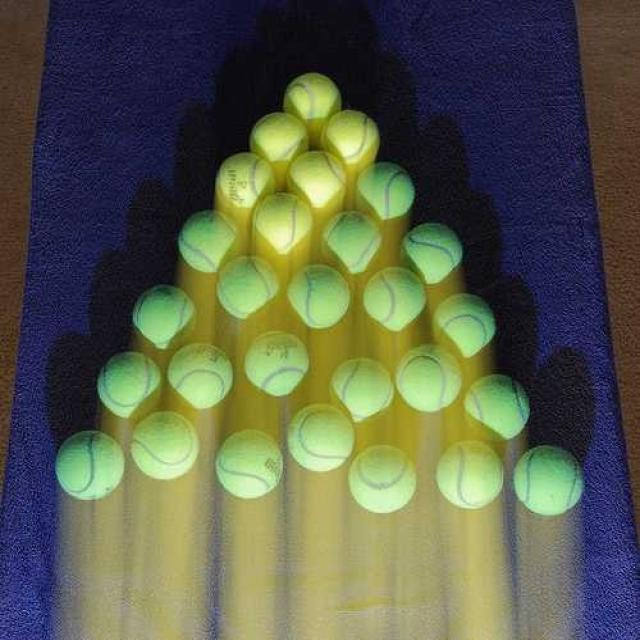Tennis_Ball: (53, 424, 125, 506), (130, 407, 200, 483), (285, 260, 355, 332), (134, 278, 205, 347), (515, 448, 586, 517), (435, 438, 499, 511), (363, 262, 424, 334), (352, 446, 419, 511), (320, 355, 389, 417), (402, 345, 466, 409), (288, 404, 349, 471), (184, 205, 240, 273), (256, 194, 312, 262), (407, 224, 468, 286), (101, 352, 160, 416), (216, 434, 278, 494), (480, 366, 539, 428), (218, 150, 274, 214), (243, 332, 306, 385), (325, 208, 374, 276), (224, 258, 274, 318), (326, 108, 381, 162), (290, 70, 338, 130), (360, 160, 413, 210), (250, 114, 310, 156), (284, 152, 338, 198), (435, 295, 480, 345)
